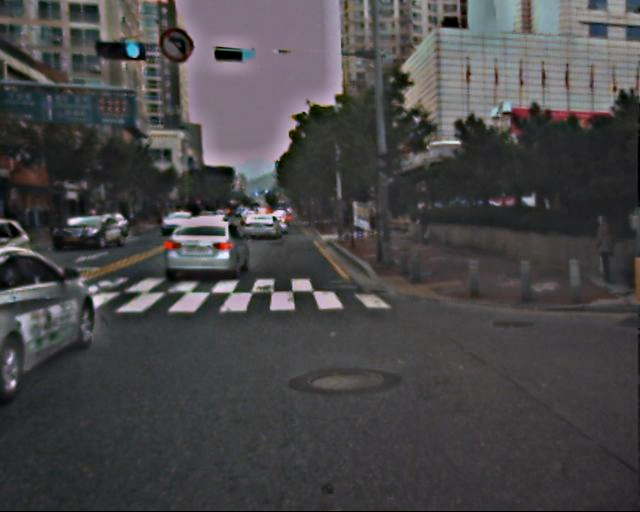person: (589, 213, 620, 288)
